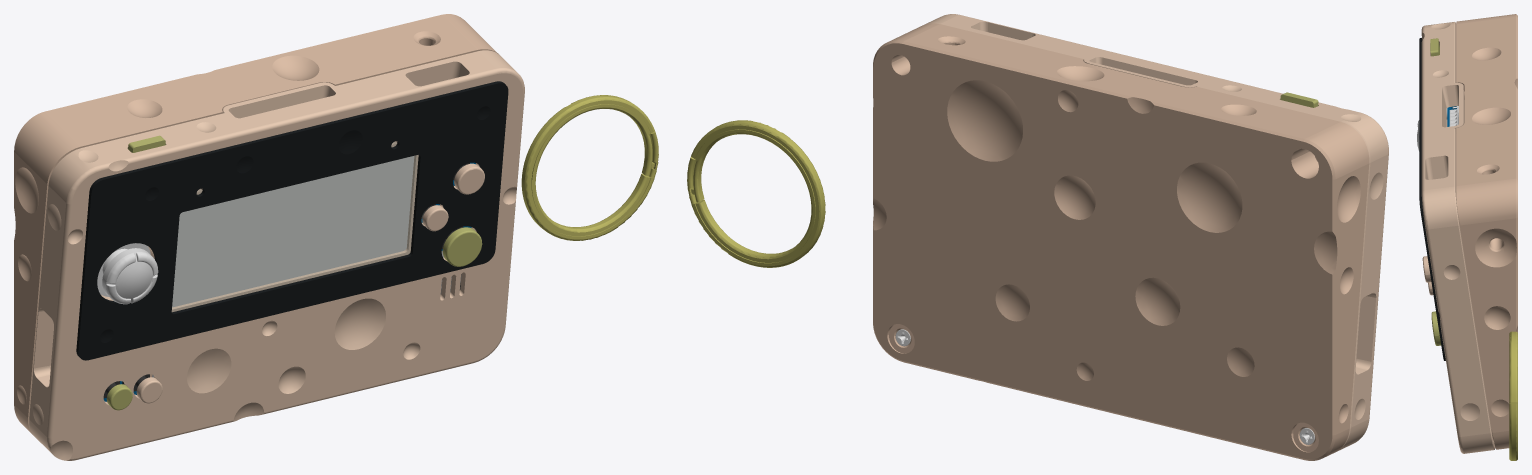
Rendered from pocket.glb.
3 renders of one model, left to right at view 1: azimuth 30°, elevation 25°; view 2: azimuth 150°, elevation 25°; view 3: azimuth 270°, elevation 25°, orthographic. The views are drawn at different scales.
Parts seen in each view (by area): view 1: o1.9, o1.20.1, o1.15.1, o1.21.1, o1.2.2.3, o1.32, o1.3, o1.12.1, o1.2.2.2, o1.10.1; view 2: o1.15.1, o1.9, o1.32; view 3: o1.15.1, o1.9, o1.32, o1.20.1, o1.12.1, o1.23.1, o1.10.1.
Boxes of the visible parts, x1=… form: o1.9: x1=29, y1=50, x2=524, y2=460; o1.20.1: x1=76, y1=81, x2=508, y2=360; o1.15.1: x1=14, y1=14, x2=498, y2=434; o1.21.1: x1=172, y1=142, x2=424, y2=311; o1.2.2.3: x1=172, y1=157, x2=406, y2=304; o1.32: x1=521, y1=95, x2=658, y2=240; o1.3: x1=97, y1=243, x2=158, y2=304; o1.12.1: x1=442, y1=227, x2=482, y2=266; o1.2.2.2: x1=172, y1=157, x2=409, y2=307; o1.10.1: x1=454, y1=163, x2=484, y2=194; o1.15.1: x1=873, y1=23, x2=1369, y2=460; o1.9: x1=924, y1=14, x2=1388, y2=451; o1.32: x1=687, y1=120, x2=825, y2=267; o1.15.1: x1=1456, y1=14, x2=1517, y2=449; o1.9: x1=1421, y1=22, x2=1495, y2=453; o1.32: x1=1509, y1=331, x2=1517, y2=460; o1.20.1: x1=1419, y1=38, x2=1445, y2=360; o1.12.1: x1=1431, y1=311, x2=1441, y2=345; o1.23.1: x1=1430, y1=38, x2=1439, y2=56; o1.10.1: x1=1422, y1=256, x2=1431, y2=282.
Size of the model in its own units: 0.1877 by 0.091 by 0.0306.
